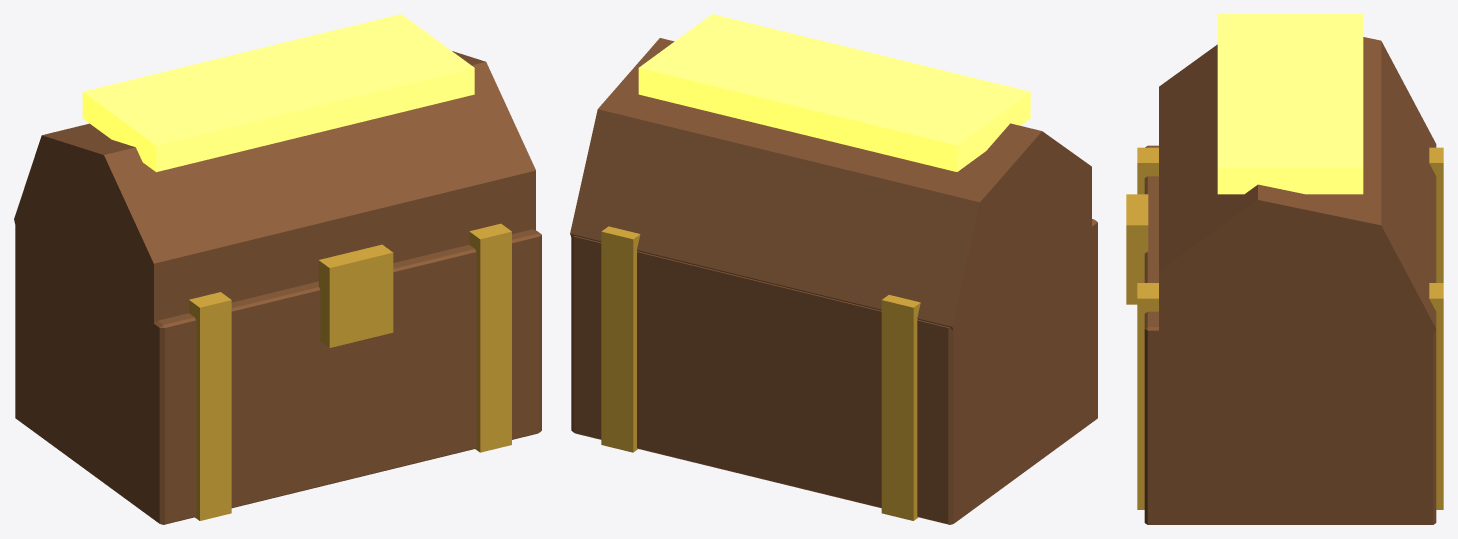
Rendered from chest-lod1.glb.
3 renders of one model, left to right at view 1: azimuth 30°, elevation 25°; view 2: azimuth 150°, elevation 25°; view 3: azimuth 270°, elevation 25°, orthographic.
Parts seen in each view (by area): view 1: chest; view 2: chest; view 3: chest.
Boxes of the visible parts, x1,y1,x2,y2 form: chest: [14, 14, 541, 524]; chest: [570, 14, 1097, 524]; chest: [1126, 14, 1443, 524].
Bounding box in the file's own units: 0.6 × 0.52 × 0.435.
